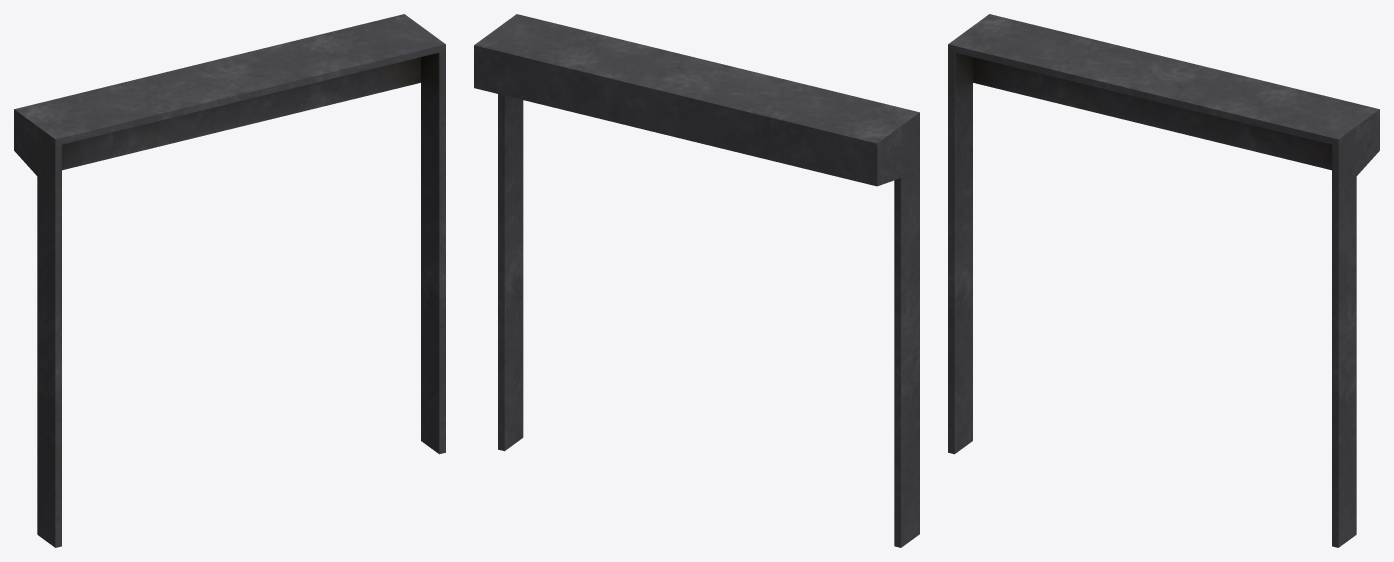
File: RollupDoor1_Frame.glb
The picture shows the model from 3 angles, left to right: view 1: azimuth 30°, elevation 25°; view 2: azimuth 150°, elevation 25°; view 3: azimuth 330°, elevation 25°; orthographic projection. The views are drawn at different scales.
Parts seen in each view (by area): view 1: Rollup_Door_1_Door_Frame; view 2: Rollup_Door_1_Door_Frame; view 3: Rollup_Door_1_Door_Frame.
Part boxes in pixels (box(x1,y1,x2,y2)): Rollup_Door_1_Door_Frame: box(14, 14, 445, 547); Rollup_Door_1_Door_Frame: box(474, 14, 919, 547); Rollup_Door_1_Door_Frame: box(948, 14, 1379, 547).
Bounding box in the file's own units: 3 × 3 × 0.5502.
Materials: 1 (1 with a texture image).
